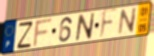6: (58, 16, 73, 44)
F: (98, 7, 119, 42), (32, 17, 54, 49)
N: (74, 11, 96, 42), (116, 6, 138, 37)
Z: (16, 20, 34, 51)
